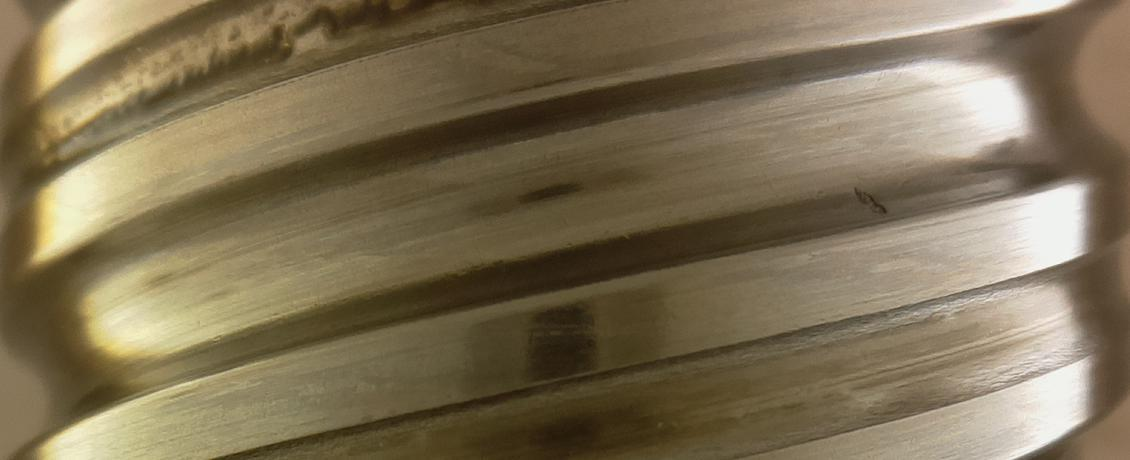pitting: (853, 186, 887, 213)
